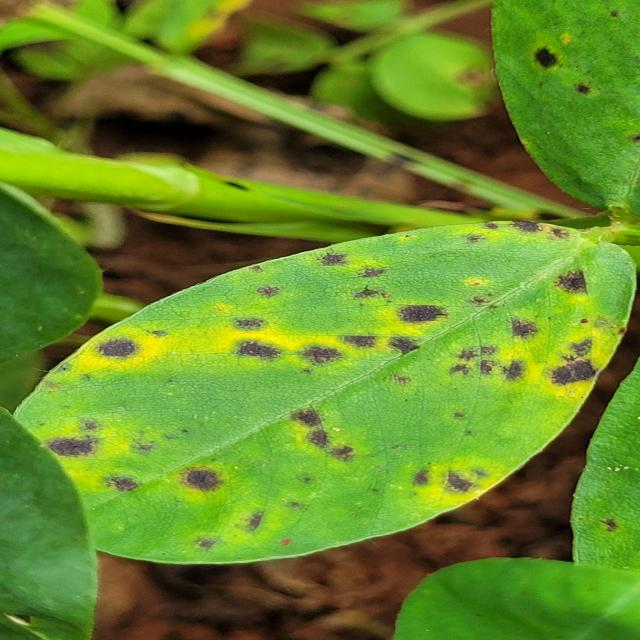Ground nut_tikka leaf spot: (14, 211, 640, 569)
